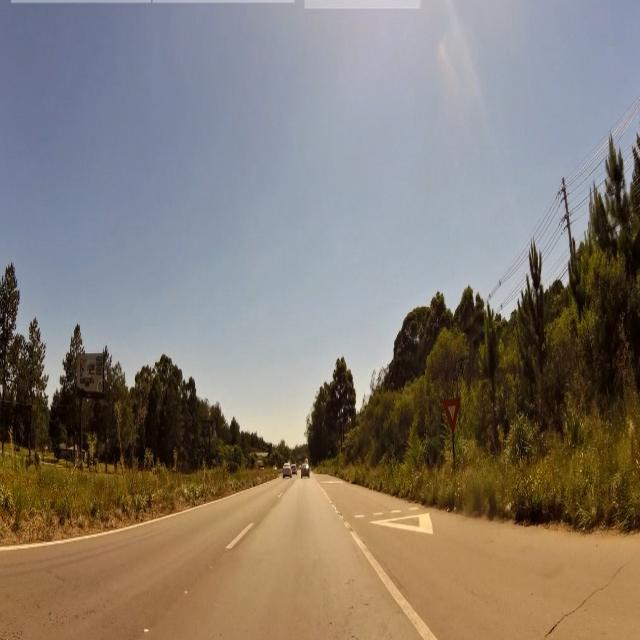R-2: (441, 396, 462, 434)
